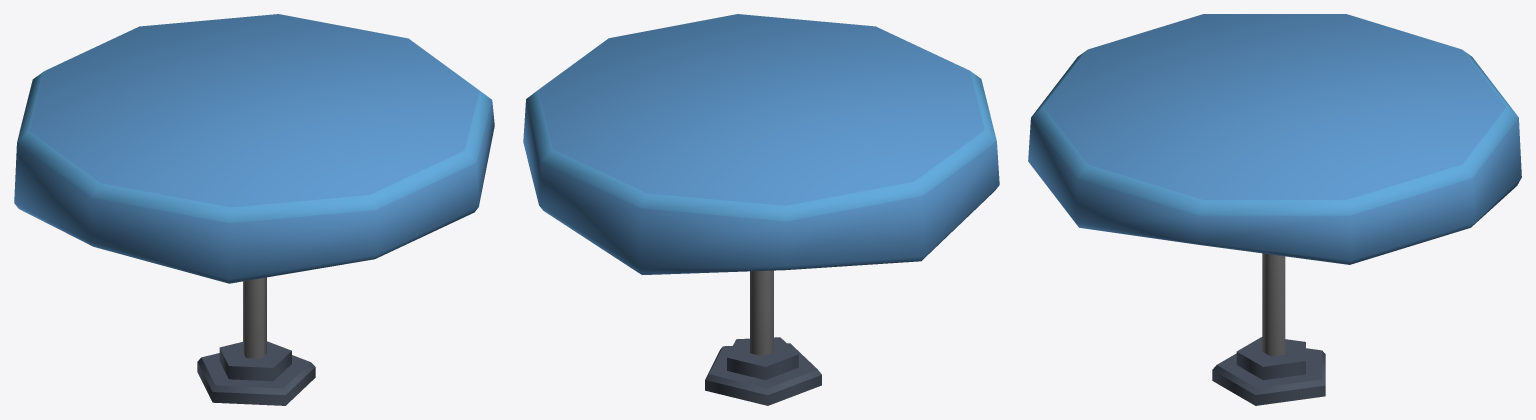
File: Table_1_G.fbx
The picture shows the model from 3 angles, left to right: view 1: azimuth 30°, elevation 25°; view 2: azimuth 150°, elevation 25°; view 3: azimuth 270°, elevation 25°; orthographic projection.
Visible parts, largest first — view 1: Table_1_G; view 2: Table_1_G; view 3: Table_1_G.
Part boxes in pixels (bbox=[...]): Table_1_G: bbox=[14, 14, 494, 405]; Table_1_G: bbox=[523, 14, 999, 405]; Table_1_G: bbox=[1028, 14, 1521, 405].
Bounding box in the file's own units: 134 × 86.3 × 141.
